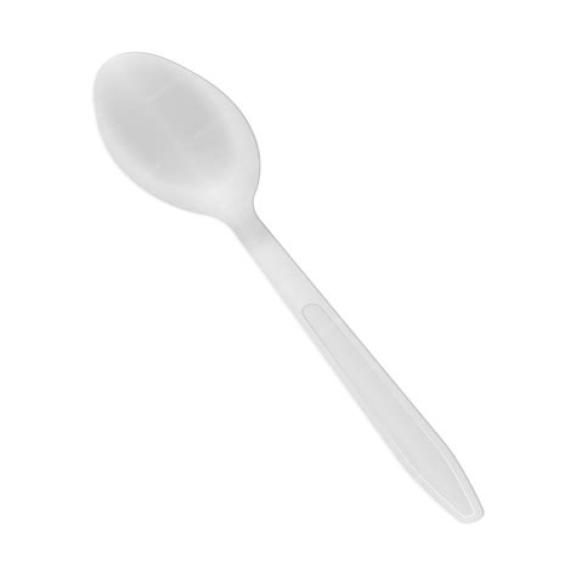Plastik: (95, 53, 473, 519)
